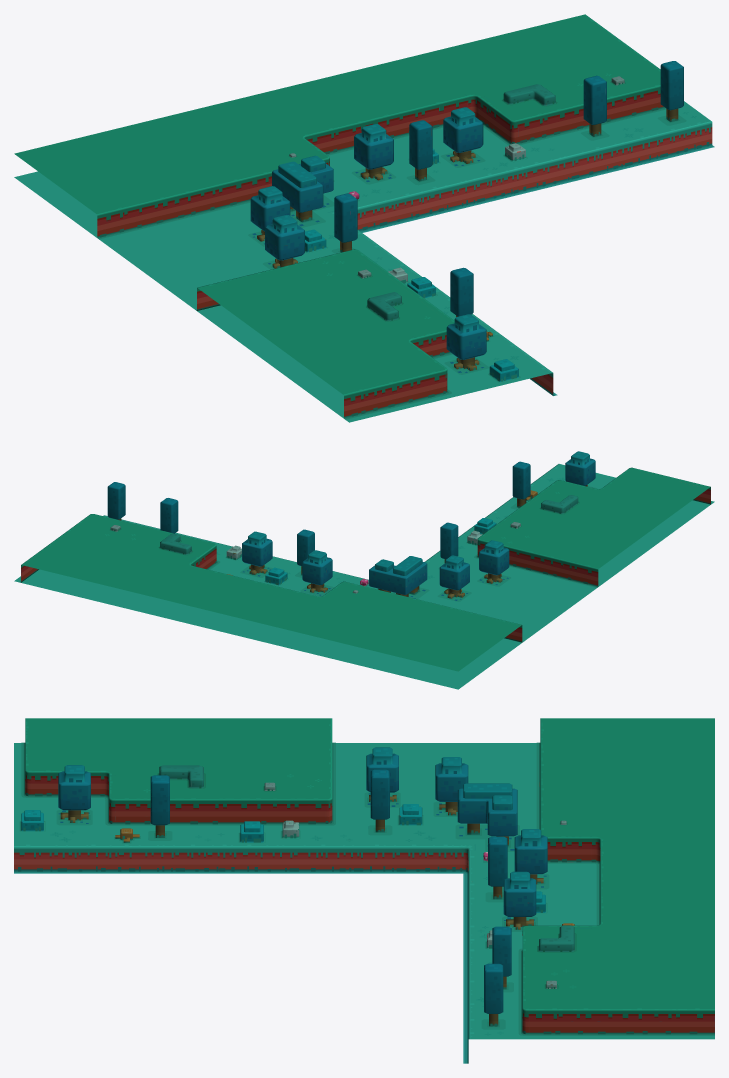
The model's file is C_forest1_out_RD.fbx.
The picture shows the model from 3 angles, top to bottom: view 1: azimuth 30°, elevation 25°; view 2: azimuth 150°, elevation 25°; view 3: azimuth 270°, elevation 25°; orthographic projection. The views are drawn at different scales.
Visible parts, largest first — view 1: C_forest1_out_RD.001; view 2: C_forest1_out_RD.001; view 3: C_forest1_out_RD.001.
Boxes of the visible parts, x1,y1,x2,y2 form: C_forest1_out_RD.001: [14, 14, 714, 422]; C_forest1_out_RD.001: [14, 451, 714, 689]; C_forest1_out_RD.001: [14, 718, 714, 1063].
Size of the model in its own units: 117 by 15.19 by 117.
